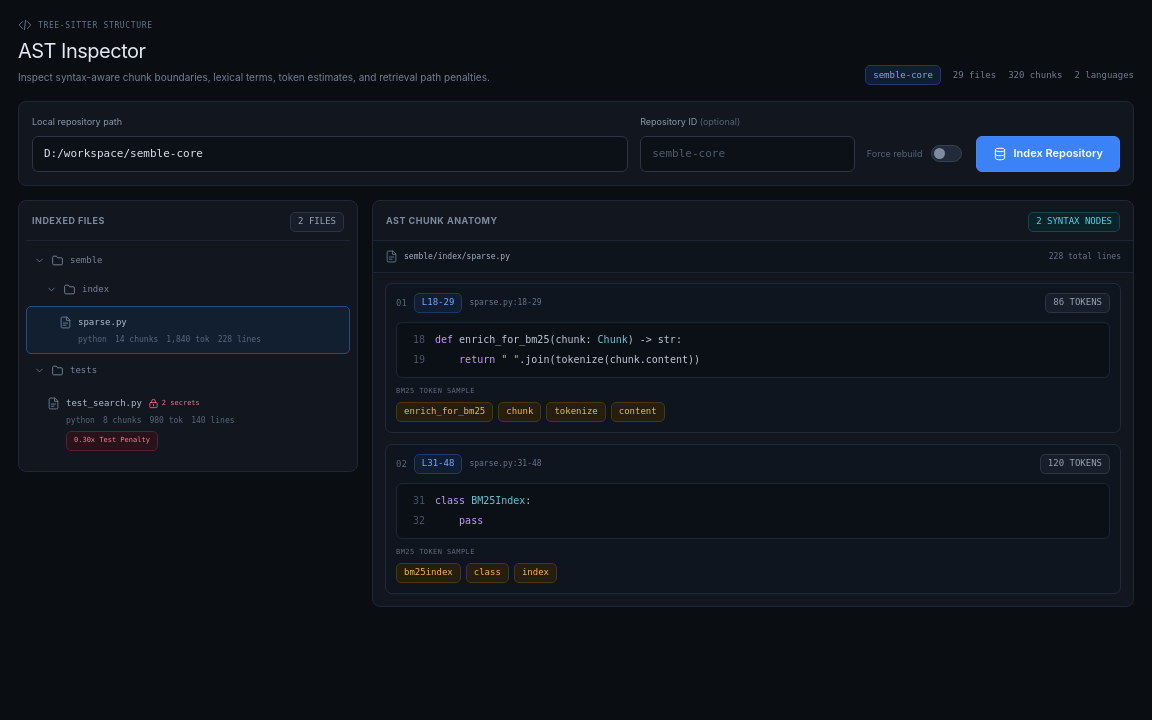
InspectorWorkspace › loads chunks when another file is selected
Expected: the text "L18-29" is shown, [414, 292, 462, 312]
Click the button with aria-label "tests/test_search.py": (104, 403) [26, 386, 350, 460]
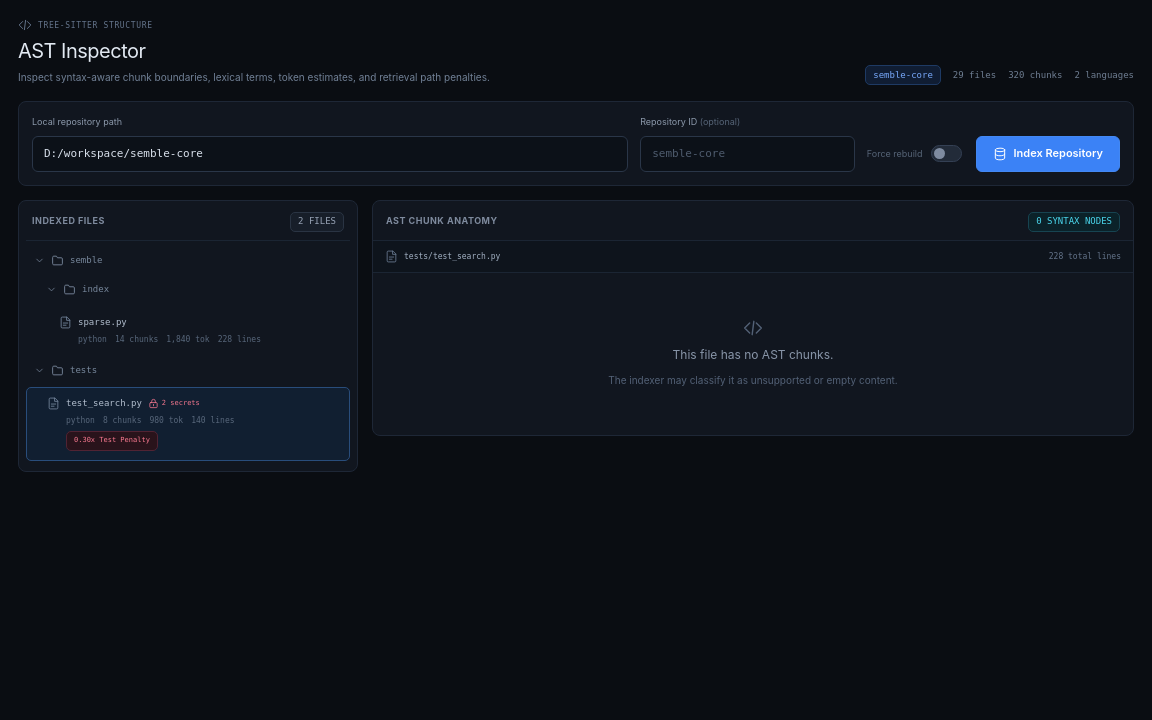
Expected: the text "This file has no AST chunks." is shown, [673, 346, 833, 364]
